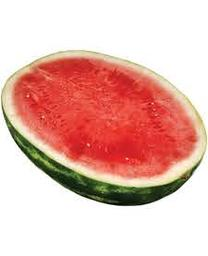watermelon: (2, 48, 205, 209)
